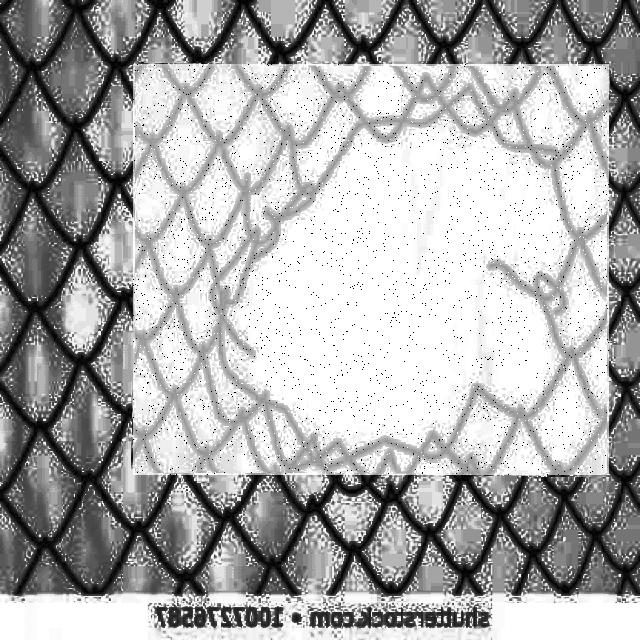anomaly-fence: (133, 64, 609, 475)
